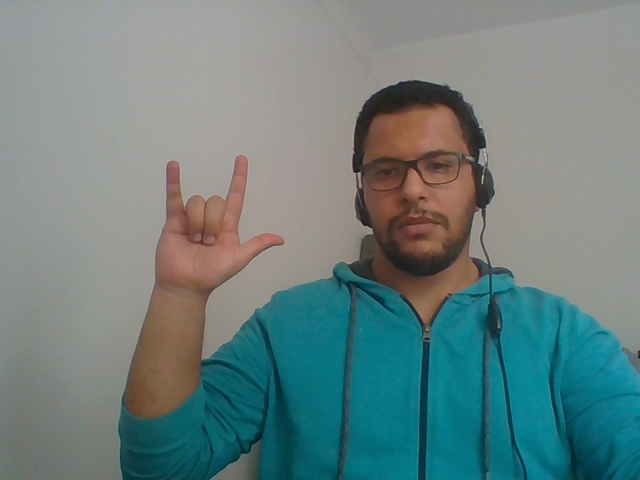iloveyou: (126, 136, 290, 360)
